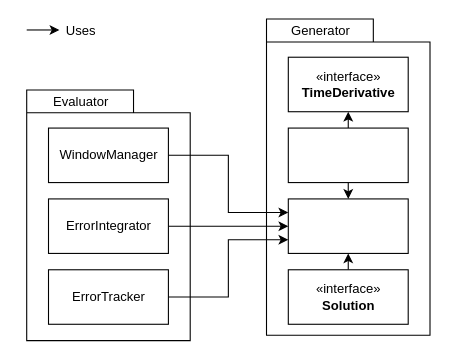
Some shapes in this 449 by 360 pixel diagram are drawn without their labels. The centre of each missing label's shape, as x and y in pixels:
State: point (347, 225)
«interface» Integrator: point (347, 155)
